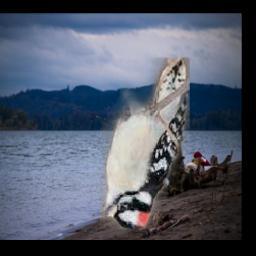Woodpecker: (100, 58, 190, 229)
